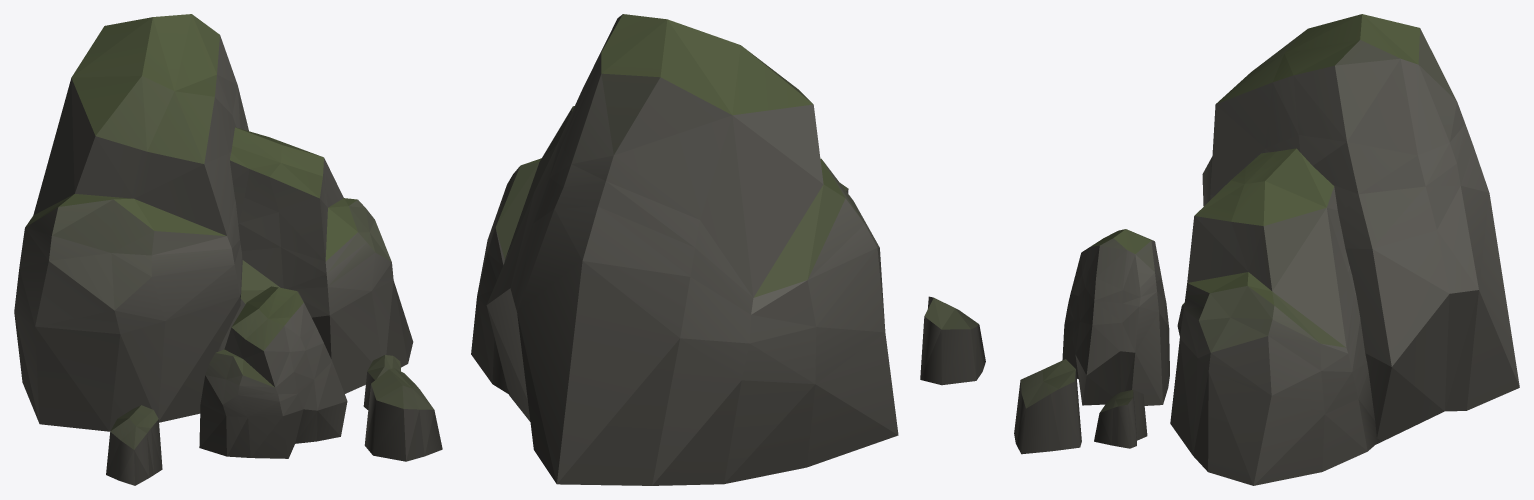
Rendered from batubesar.fbx.
3 views of the same model, side by side, from view 1: azimuth 30°, elevation 25°; view 2: azimuth 150°, elevation 25°; view 3: azimuth 270°, elevation 25° (orthographic). The views are drawn at different scales.
Visible parts, largest first — view 1: batubesar; view 2: batubesar; view 3: batubesar.
Boxes of the visible parts, x1=… form: batubesar: x1=14, y1=14, x2=442, y2=485; batubesar: x1=471, y1=14, x2=985, y2=485; batubesar: x1=1014, y1=14, x2=1519, y2=485.
Size of the model in its own units: 2.22 by 2.03 by 2.5.
